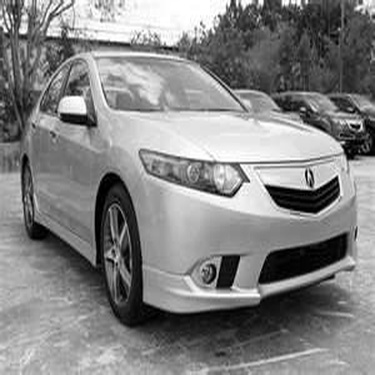car: (6, 38, 367, 328)
